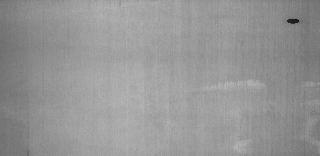punching hole: (284, 17, 302, 25)
